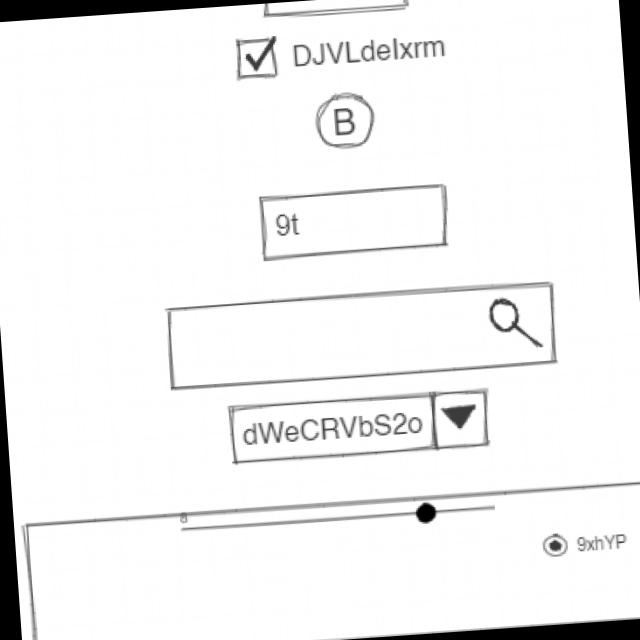button: (260, 1, 413, 23)
checkbox: (234, 21, 450, 84)
container: (19, 473, 640, 640)
icon-button: (310, 87, 380, 156)
input: (254, 180, 456, 265)
radio: (539, 528, 631, 561)
search: (162, 276, 565, 396)
select: (226, 382, 496, 469)
slider: (192, 496, 501, 542)
